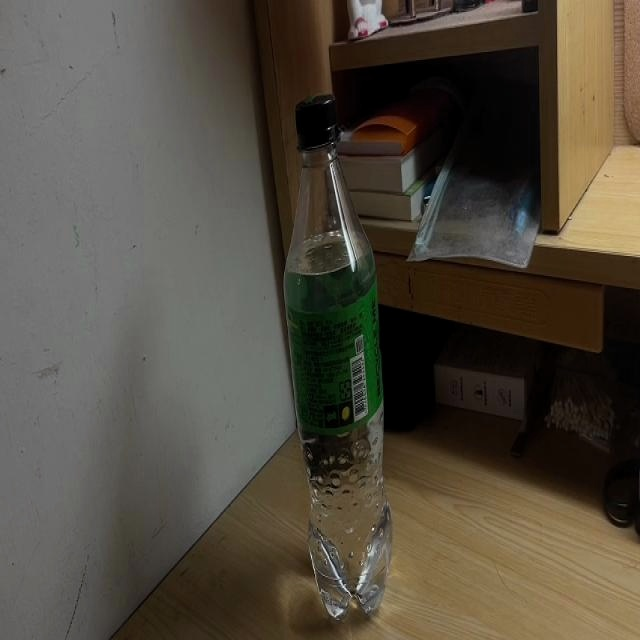Sprite: (281, 94, 393, 622)
